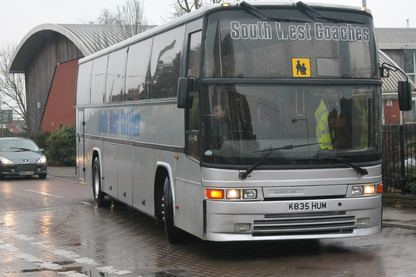bus: (76, 1, 412, 244)
